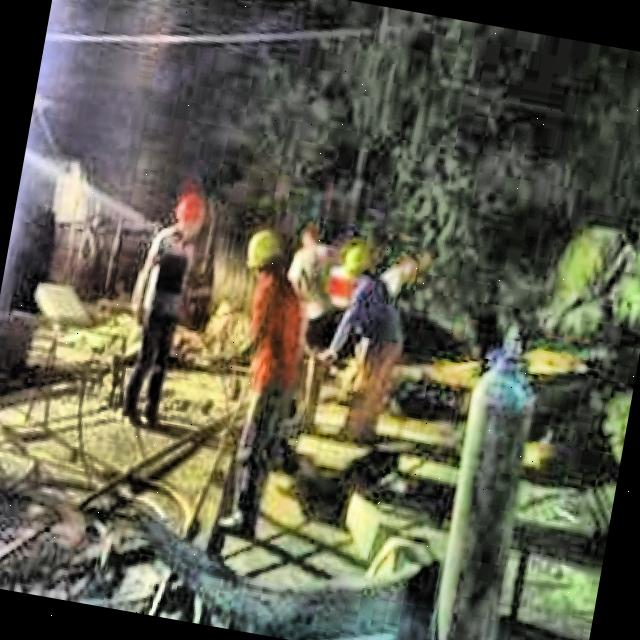helmet: (240, 225, 294, 298), (164, 178, 217, 248), (340, 242, 378, 288)
